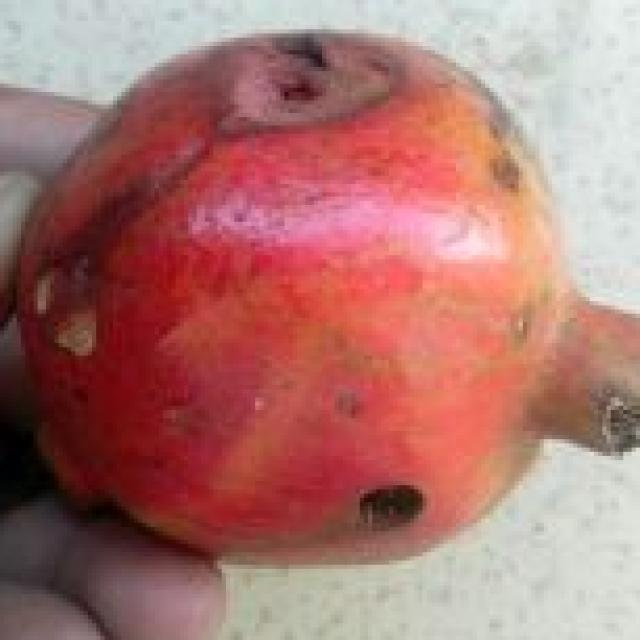Bad_Pomegranate-0-1-day: (13, 29, 640, 573)
